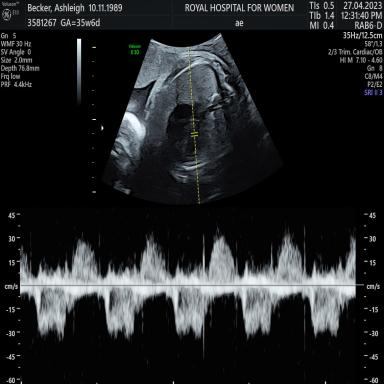Ultrasound-Waves: (27, 212, 354, 383)
